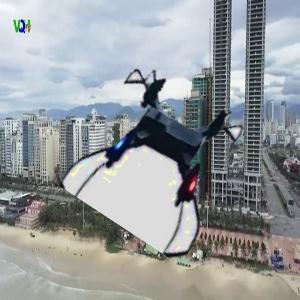drone: (80, 76, 241, 237)
